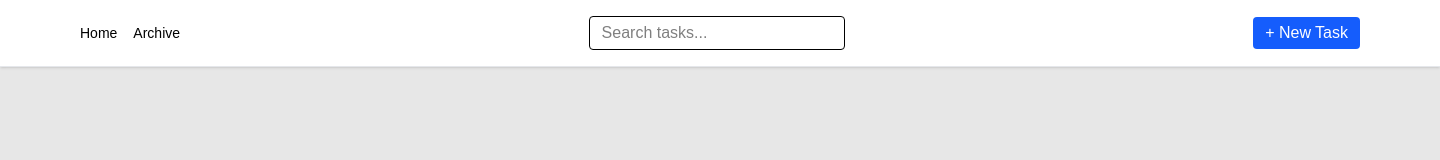
Test: NavBar › filters tasks when typing in search input
Type "Test" into the field with placeholder "Search tasks..." at [717, 33], box [589, 16, 845, 50]
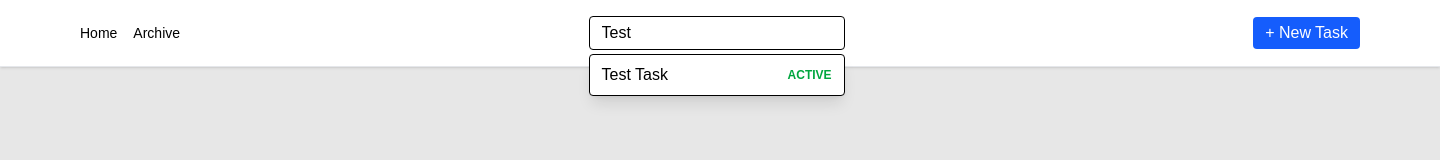
Now the text "Test Task" is shown, box [602, 63, 668, 87]
